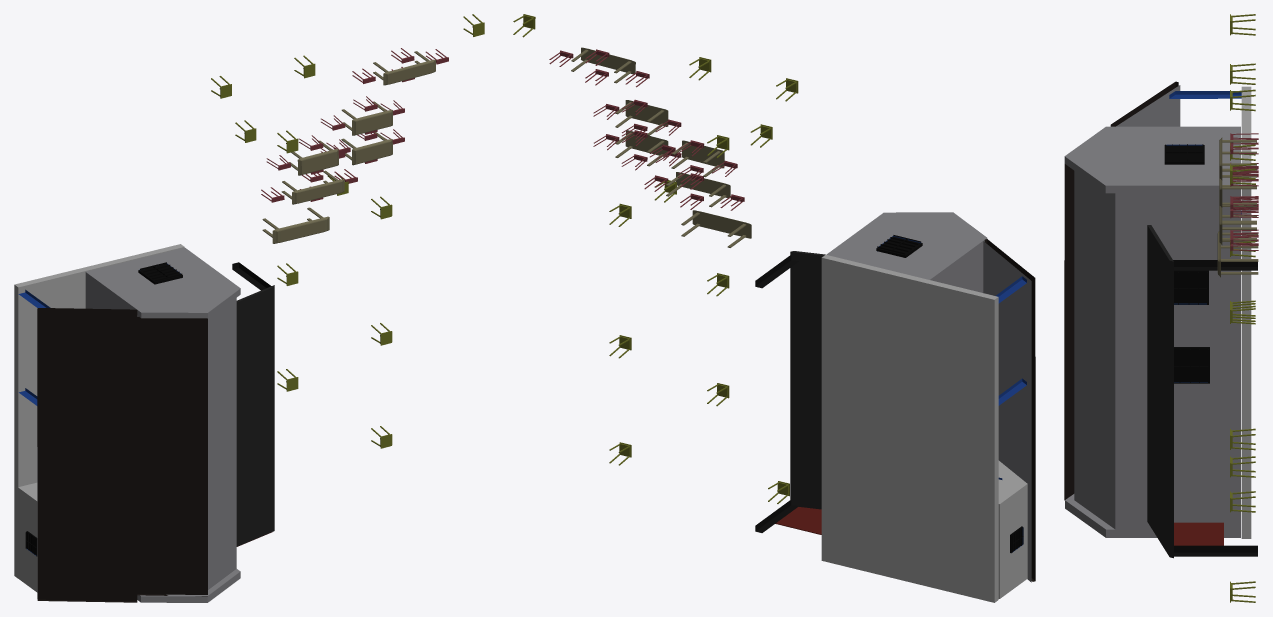
File: cafty.obj
3 renders of one model, left to right at view 1: azimuth 30°, elevation 25°; view 2: azimuth 150°, elevation 25°; view 3: azimuth 270°, elevation 25°, orthographic. The views are drawn at different scales.
Parts seen in each view (by area): view 1: Cube.270_Cube.328, Cafe, Cafecube.001, Cube.212_Cube.270, Cafecube, Tablestl.006, Tablestl.003, Tablestl, Tablestl.005, Tablestl.004, Tablestl.007, Cube.198_Cube.256; view 2: Cube.212_Cube.270, Cafe, Cafecube.001, Cafecube, Cube.270_Cube.328, Tablestl.003, Tablestl.006, Tablestl, Tablestl.005, Tablestl.004, Tablestl.007, Cube.217_Cube.275 (+1 smaller); view 3: Cafe, Cafecube.001, Cube.270_Cube.328, Cube.212_Cube.270, Cube.208_Cube.266, Cube.207_Cube.265, Cube.217_Cube.275, Tablestl.006, Cube.216_Cube.274, Tablestl.004, Cube.198_Cube.256, Cube.215_Cube.273 (+4 smaller).
Boxes of the visible parts, bbox=[...] form: Cube.270_Cube.328: bbox=[37, 308, 207, 602]; Cafe: bbox=[37, 247, 240, 602]; Cafecube.001: bbox=[236, 285, 274, 546]; Cube.212_Cube.270: bbox=[14, 244, 184, 578]; Cafecube: bbox=[18, 482, 37, 592]; Tablestl.006: bbox=[352, 48, 448, 85]; Tablestl.003: bbox=[261, 169, 357, 204]; Tablestl: bbox=[266, 135, 350, 175]; Tablestl.005: bbox=[321, 96, 404, 135]; Tablestl.004: bbox=[320, 129, 404, 165]; Tablestl.007: bbox=[262, 207, 329, 243]; Cube.198_Cube.256: bbox=[138, 262, 182, 284]; Cube.212_Cube.270: bbox=[821, 254, 998, 602]; Cafe: bbox=[826, 212, 1031, 582]; Cafecube.001: bbox=[790, 251, 825, 509]; Cafecube: bbox=[998, 460, 1027, 598]; Cube.270_Cube.328: bbox=[984, 239, 1035, 581]; Tablestl.003: bbox=[644, 172, 744, 210]; Tablestl.006: bbox=[549, 47, 649, 87]; Tablestl: bbox=[649, 140, 737, 181]; Tablestl.005: bbox=[593, 99, 681, 139]; Tablestl.004: bbox=[593, 130, 681, 170]; Tablestl.007: bbox=[681, 210, 751, 247]; Cube.217_Cube.275: bbox=[775, 507, 821, 534]; Cafe: bbox=[1064, 85, 1240, 537]; Cafecube.001: bbox=[1147, 225, 1173, 558]; Cube.270_Cube.328: bbox=[1064, 81, 1178, 500]; Cube.212_Cube.270: bbox=[1241, 86, 1251, 538]; Cube.208_Cube.266: bbox=[1174, 347, 1209, 383]; Cube.207_Cube.265: bbox=[1174, 270, 1208, 304]; Cube.217_Cube.275: bbox=[1174, 522, 1223, 545]; Tablestl.006: bbox=[1219, 133, 1258, 186]; Cube.216_Cube.274: bbox=[1174, 545, 1257, 556]; Tablestl.004: bbox=[1219, 198, 1258, 244]; Cube.198_Cube.256: bbox=[1164, 144, 1204, 164]; Cube.215_Cube.273: bbox=[1173, 260, 1257, 270].
Size of the model in its own units: 0.7546 by 0.6921 by 0.223.
